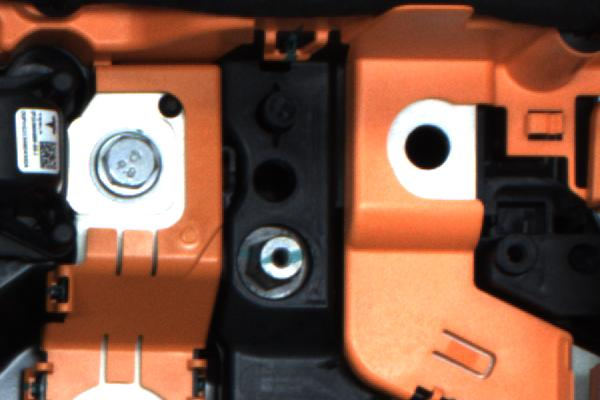nut_b: (84, 127, 175, 214)
